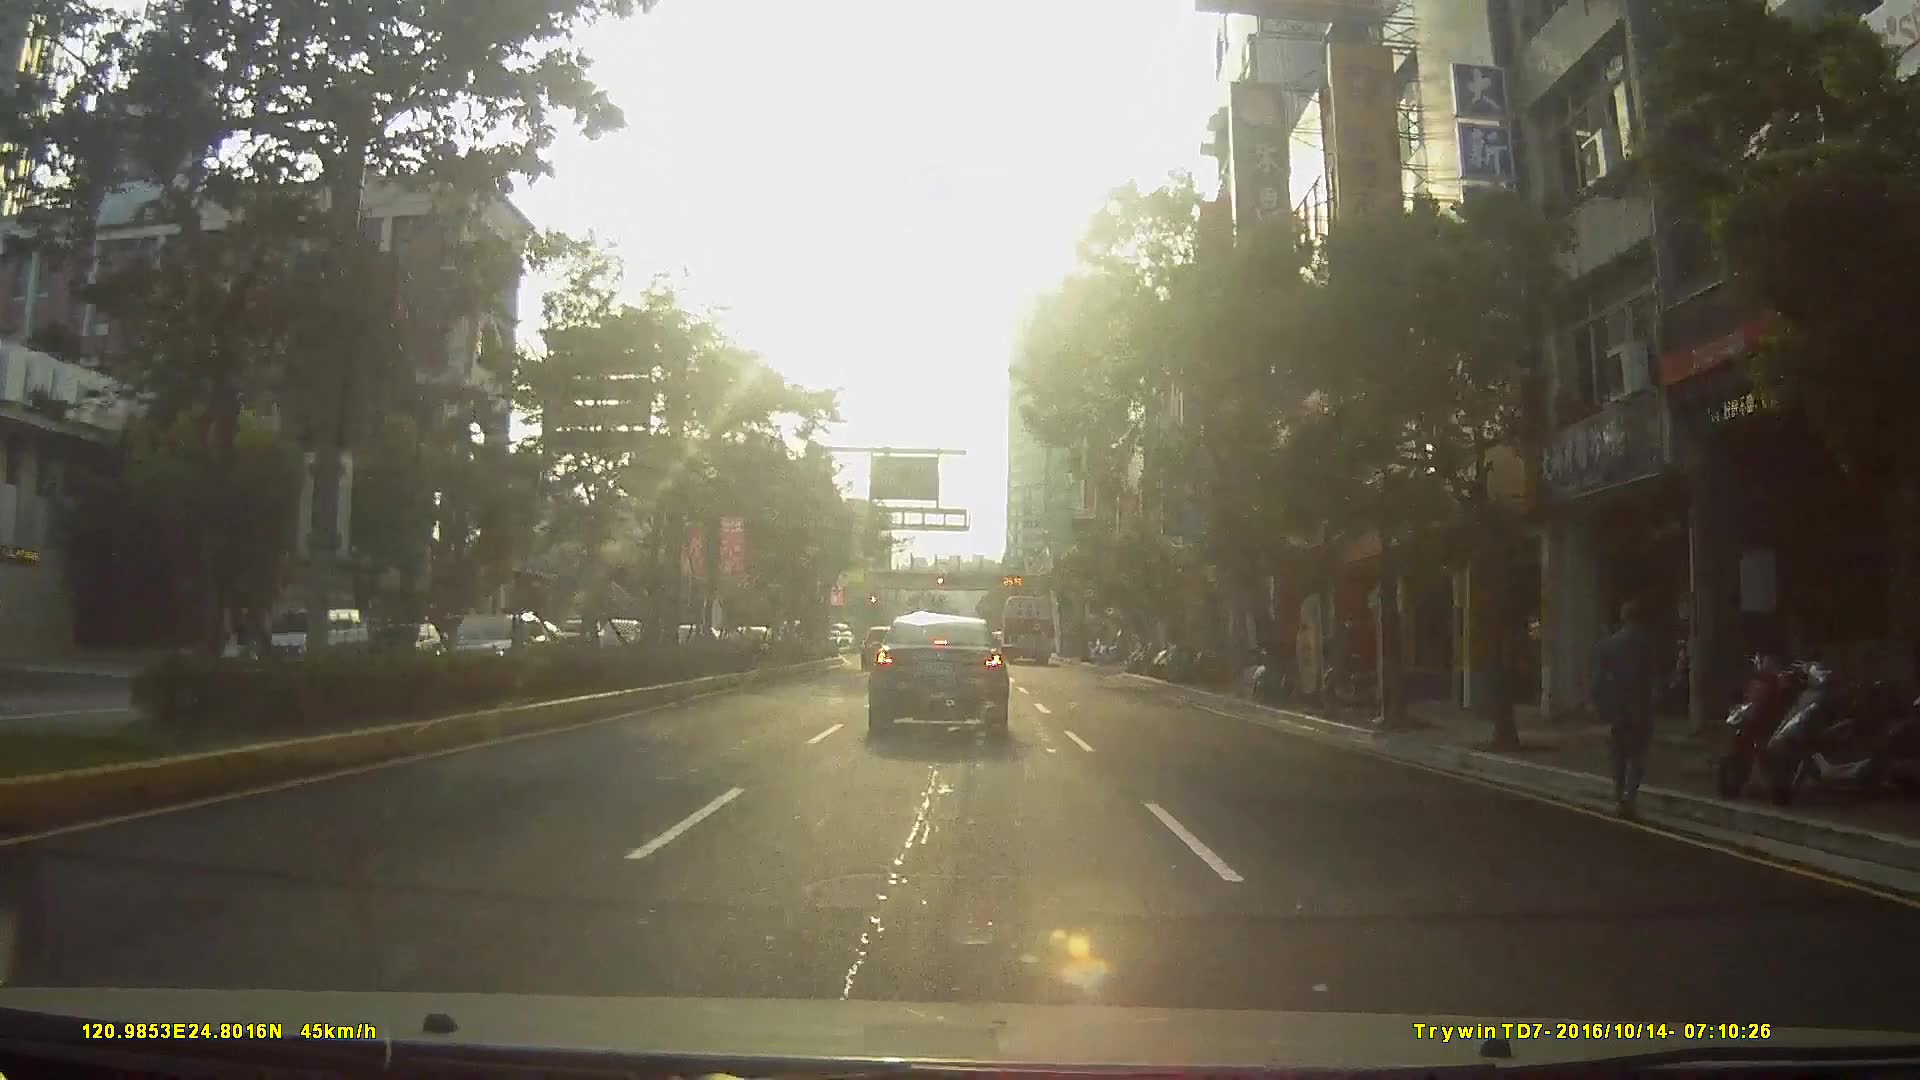pedestrian: (1599, 595, 1665, 814)
vehicle: (865, 609, 1010, 734), (257, 605, 363, 670), (997, 590, 1055, 658), (860, 623, 899, 664)
